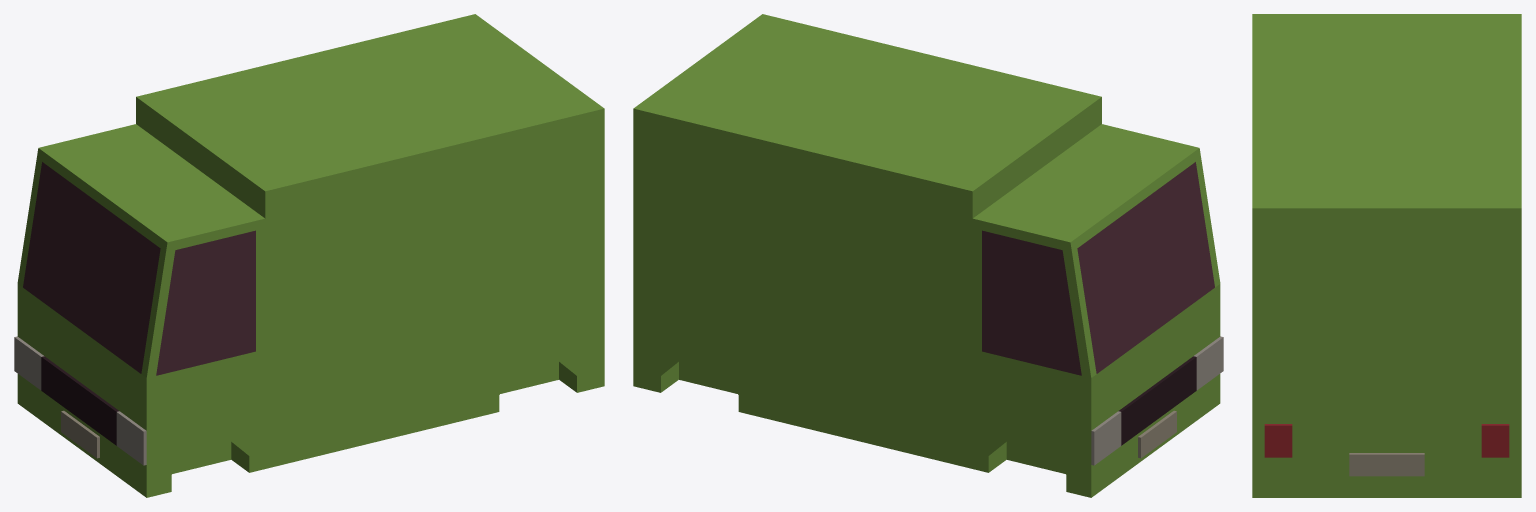
File: MiniTruck_Green.fbx
The picture shows the model from 3 angles, left to right: view 1: azimuth 30°, elevation 25°; view 2: azimuth 150°, elevation 25°; view 3: azimuth 270°, elevation 25°; orthographic projection. The views are drawn at different scales.
Visible parts, largest first — view 1: MiniTruck_Green, MiniTruck_Lights; view 2: MiniTruck_Green, MiniTruck_Lights; view 3: MiniTruck_Green, MiniTruck_Lights.
Part boxes in pixels (x1,y1,x2,y2): MiniTruck_Green: (17, 14, 604, 497); MiniTruck_Lights: (14, 336, 146, 465); MiniTruck_Green: (633, 14, 1220, 497); MiniTruck_Lights: (1091, 336, 1223, 465); MiniTruck_Green: (1252, 14, 1521, 497); MiniTruck_Lights: (1264, 424, 1509, 457).
Size of the model in its own units: 4.46 by 2.55 by 2.15.
